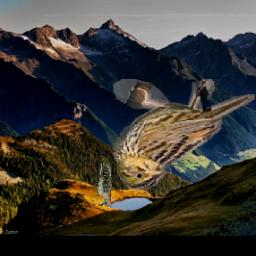Sparrow: (114, 80, 256, 191)
Woodpecker: (93, 152, 112, 206)
